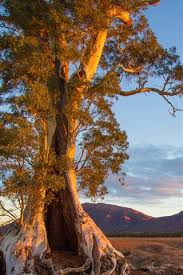tree: (5, 4, 130, 275)
